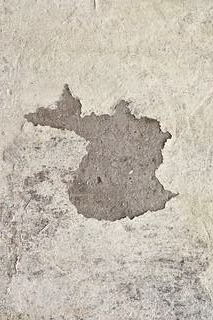Spalling: (22, 83, 180, 223)
